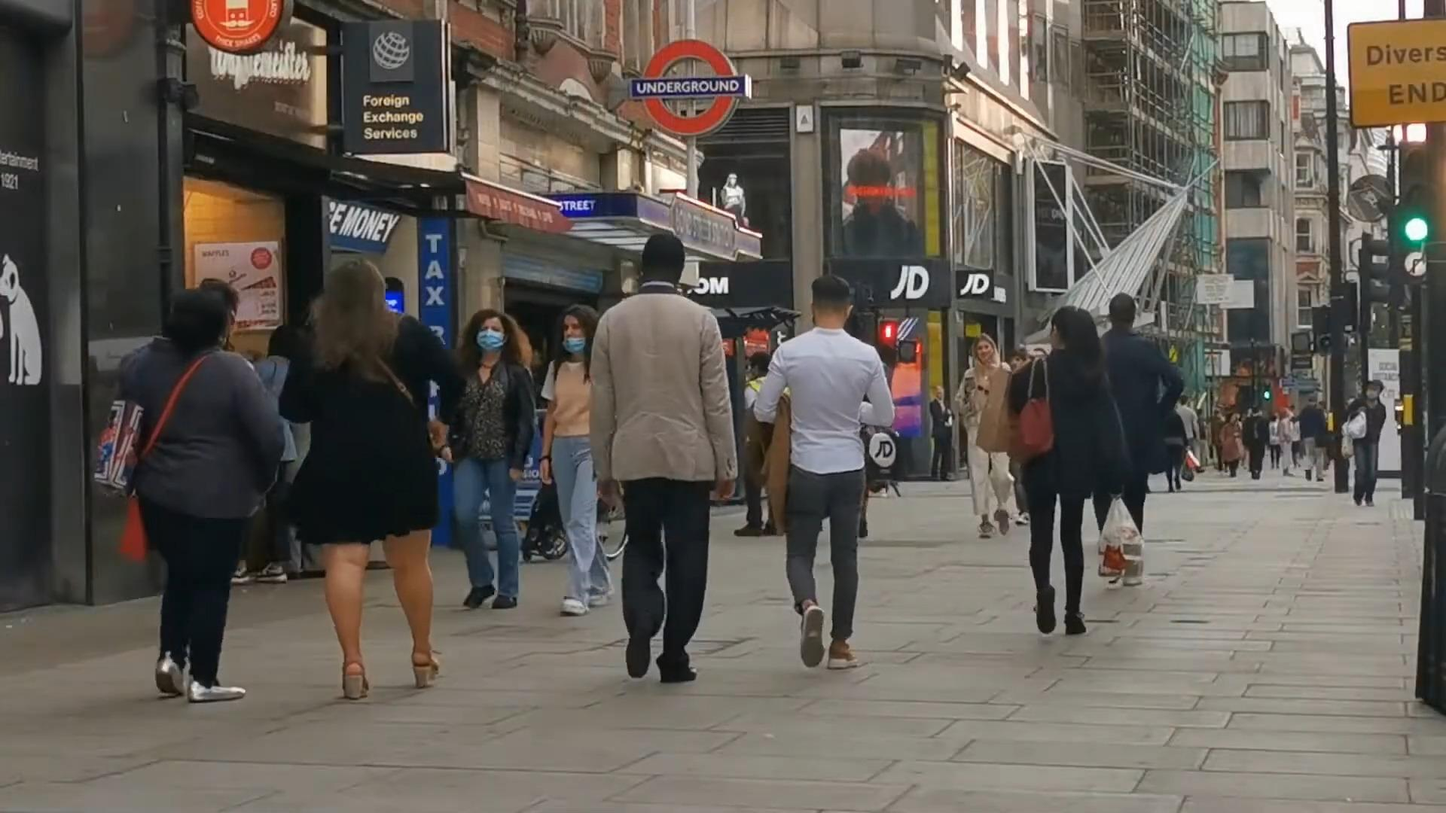no-helmet: (319, 257, 388, 326), (167, 288, 229, 352), (464, 309, 527, 354), (555, 304, 598, 357), (811, 274, 854, 327), (641, 233, 685, 284), (1050, 306, 1098, 350), (1109, 293, 1136, 327), (972, 333, 999, 363)
